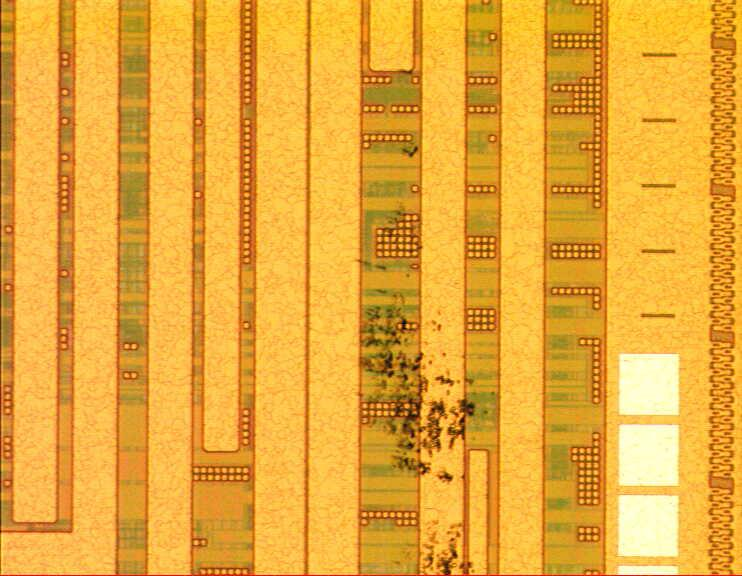SCRATCH: (350, 58, 501, 576)
